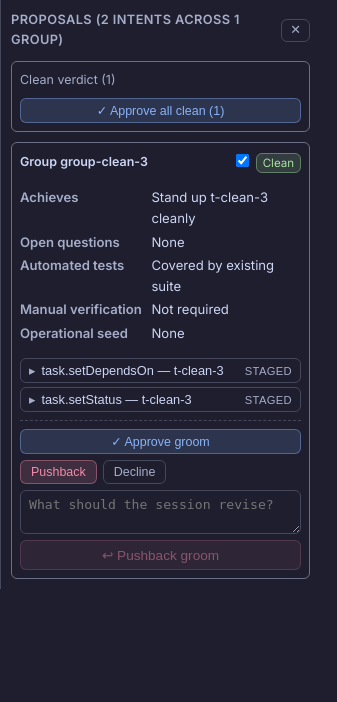
DecisionPanel › clean-triaged groups › exposes a clean group's per-intent detail via its own member toggle, not a bespoke triage-expand container
expect the text "depends on for" is not shown: met
Click the button with test id "group-member-toggle-group-clean-3-dep" at [160, 371], box [20,358,301,383]
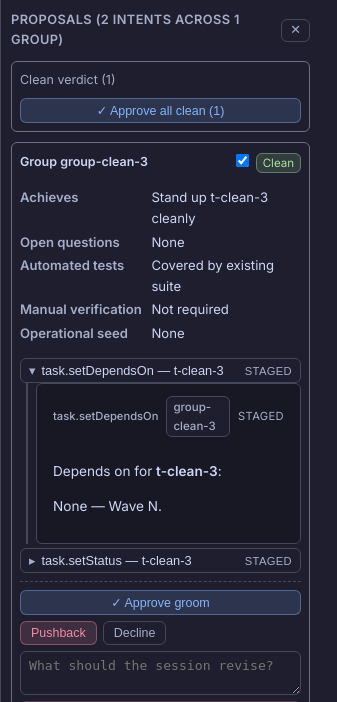
expect the text "Depends on for t-clean-3:" is shown: met, box [53,463,222,479]
